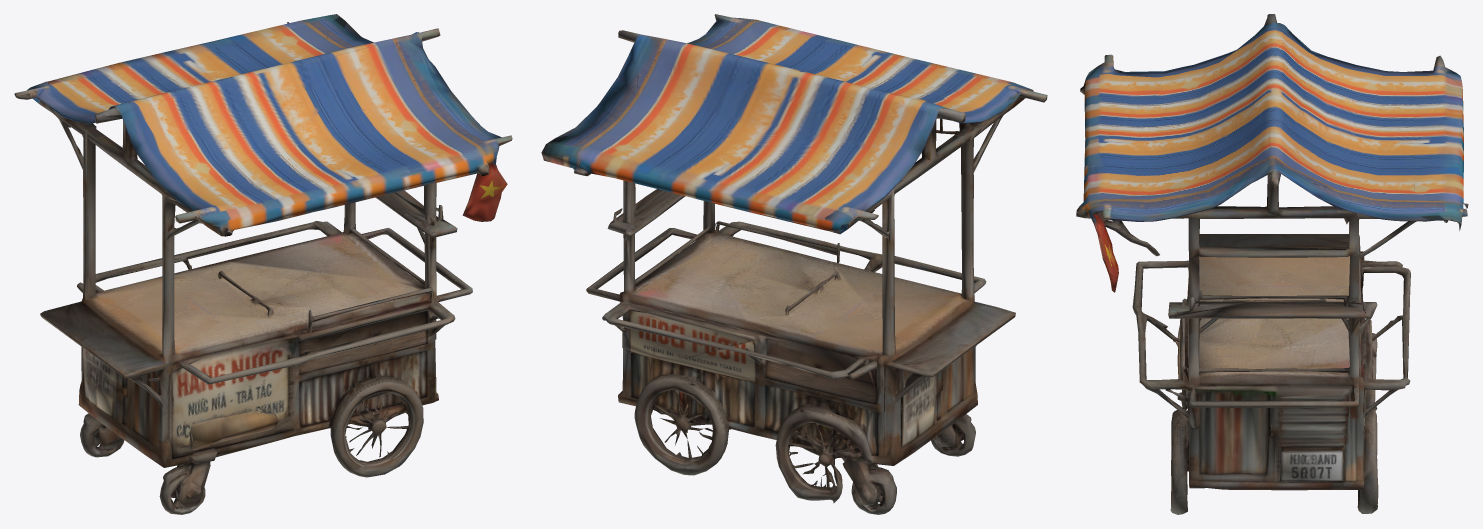
File: Meshy_AI_Vietnam_Sugarcane_Jui_0602210551_texture.fbx
The picture shows the model from 3 angles, left to right: view 1: azimuth 30°, elevation 25°; view 2: azimuth 150°, elevation 25°; view 3: azimuth 270°, elevation 25°; orthographic projection.
Parts seen in each view (by area): view 1: Mesh_0; view 2: Mesh_0; view 3: Mesh_0.
Part boxes in pixels (bbox=[...]): Mesh_0: bbox=[14, 14, 512, 514]; Mesh_0: bbox=[541, 14, 1047, 514]; Mesh_0: bbox=[1076, 14, 1468, 514].
Size of the model in its own units: 194 by 200 by 185.
Materials: 1 (1 with a texture image).
